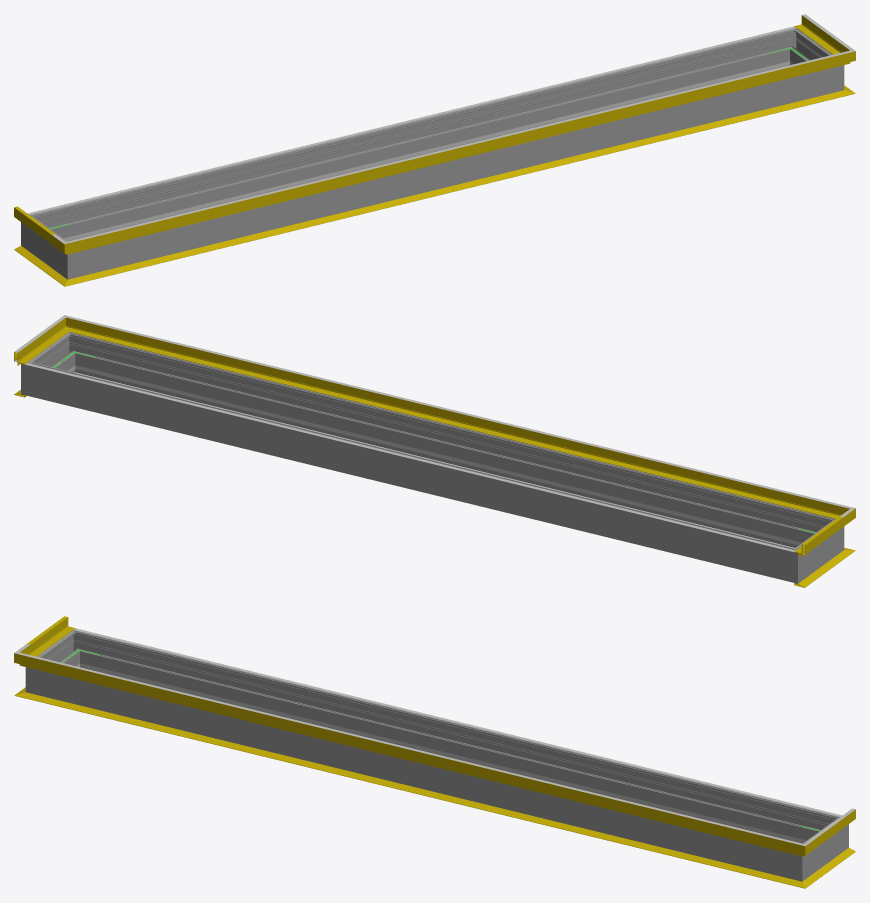
The picture shows the model from 3 angles, top to bottom: view 1: azimuth 30°, elevation 25°; view 2: azimuth 150°, elevation 25°; view 3: azimuth 330°, elevation 25°; orthographic projection.
Visible parts, largest first — view 1: 3DGeom-276, 3DGeom-298, 3DGeom-56, 3DGeom-28, 3DGeom-244, 3DGeom-220, 3DGeom-66, 3DGeom-270, 3DGeom-58, 3DGeom-284, 3DGeom-290, 3DGeom-268; view 2: 3DGeom-298, 3DGeom-276, 3DGeom-56, 3DGeom-239, 3DGeom-220, 3DGeom-66, 3DGeom-278, 3DGeom-284, 3DGeom-58, 3DGeom-290, 3DGeom-297, 3DGeom-268; view 3: 3DGeom-276, 3DGeom-298, 3DGeom-56, 3DGeom-28, 3DGeom-244, 3DGeom-220, 3DGeom-66, 3DGeom-290, 3DGeom-50, 3DGeom-278, 3DGeom-270, 3DGeom-297.
Part boxes in pixels (x1,y1,x2,y2): 3DGeom-276: (45, 32, 786, 241); 3DGeom-298: (89, 70, 822, 273); 3DGeom-56: (84, 56, 833, 250); 3DGeom-28: (83, 94, 833, 281); 3DGeom-244: (71, 66, 768, 239); 3DGeom-220: (27, 26, 795, 214); 3DGeom-66: (85, 55, 833, 238); 3DGeom-270: (55, 238, 89, 279); 3DGeom-58: (794, 15, 839, 53); 3DGeom-284: (778, 28, 806, 65); 3DGeom-290: (822, 51, 844, 95); 3DGeom-268: (33, 222, 61, 269); 3DGeom-298: (79, 336, 820, 547); 3DGeom-276: (43, 366, 779, 578); 3DGeom-56: (80, 322, 831, 516); 3DGeom-239: (96, 370, 794, 543); 3DGeom-220: (25, 363, 795, 552); 3DGeom-66: (85, 320, 833, 504); 3DGeom-278: (776, 542, 810, 583); 3DGeom-284: (21, 355, 46, 399); 3DGeom-58: (14, 325, 62, 365); 3DGeom-290: (58, 332, 87, 373); 3DGeom-297: (37, 339, 73, 371); 3DGeom-268: (804, 526, 831, 573); 3DGeom-276: (83, 634, 824, 843); 3DGeom-298: (47, 672, 780, 875); 3DGeom-56: (36, 658, 785, 852); 3DGeom-28: (36, 696, 786, 883); 3DGeom-244: (101, 668, 798, 841); 3DGeom-220: (74, 628, 842, 816); 3DGeom-66: (36, 657, 784, 840); 3DGeom-290: (780, 840, 814, 881); 3DGeom-50: (30, 617, 75, 655); 3DGeom-278: (63, 630, 91, 667); 3DGeom-270: (25, 653, 47, 697); 3DGeom-297: (808, 824, 836, 871).
Bounding box in the file's own units: 5.49 × 0.2831 × 0.6096.
